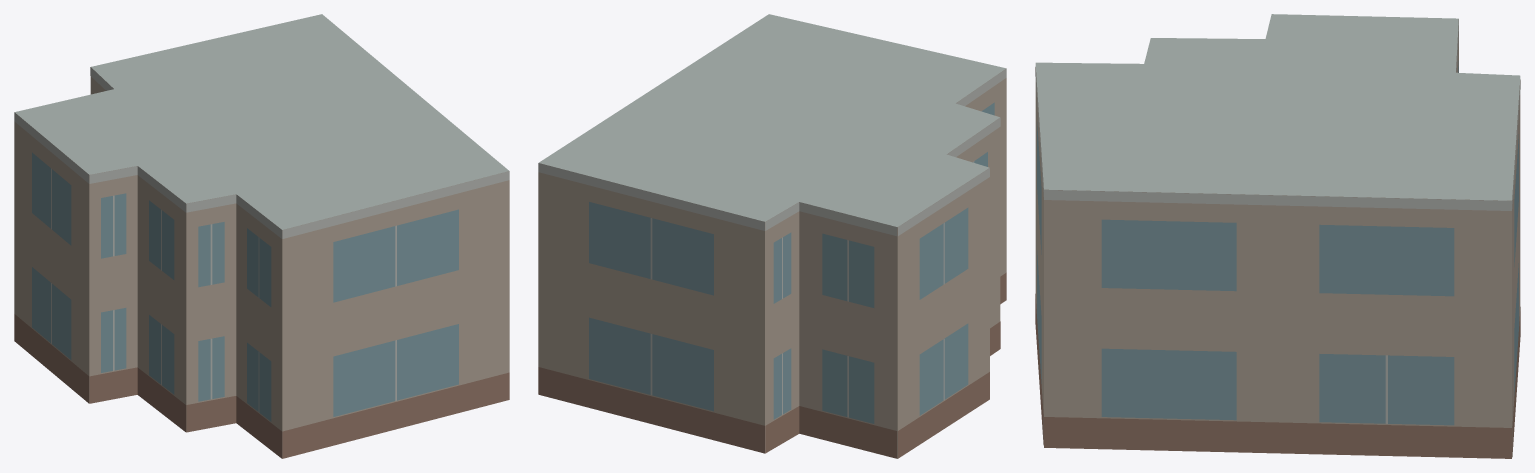
The model's file is survey-upis-32878680.glb.
3 renders of one model, left to right at view 1: azimuth 30°, elevation 25°; view 2: azimuth 150°, elevation 25°; view 3: azimuth 270°, elevation 25°, orthographic. The views are drawn at different scales.
Parts seen in each view (by area): view 1: survey-upis-32878680.tmp; view 2: survey-upis-32878680.tmp; view 3: survey-upis-32878680.tmp.
Boxes of the visible parts, bbox=[...] form: survey-upis-32878680.tmp: bbox=[14, 14, 509, 458]; survey-upis-32878680.tmp: bbox=[538, 14, 1006, 458]; survey-upis-32878680.tmp: bbox=[1035, 14, 1520, 458].
Size of the model in its own units: 9.48 by 6.1 by 10.4.
